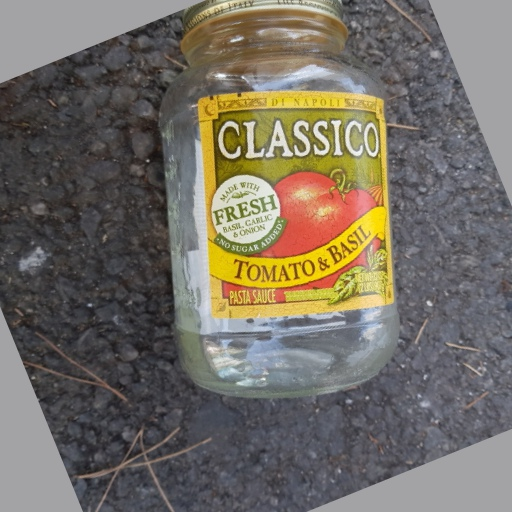Glass_5: (144, 4, 408, 402)
